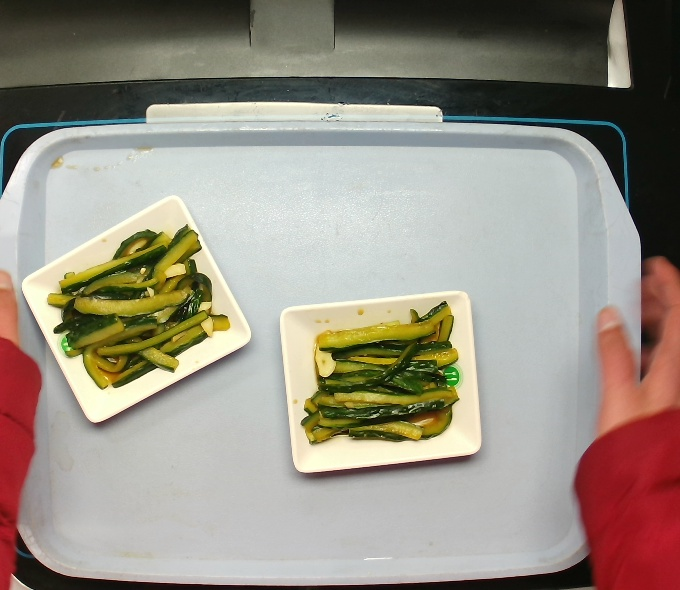wcq-LiangBanHuangGua: (44, 220, 232, 392), (297, 297, 465, 450)
